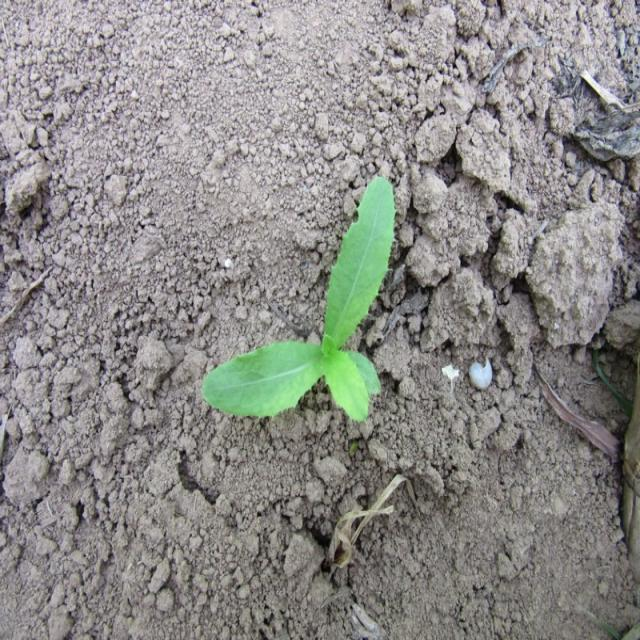field_thistle: (165, 168, 407, 426)
